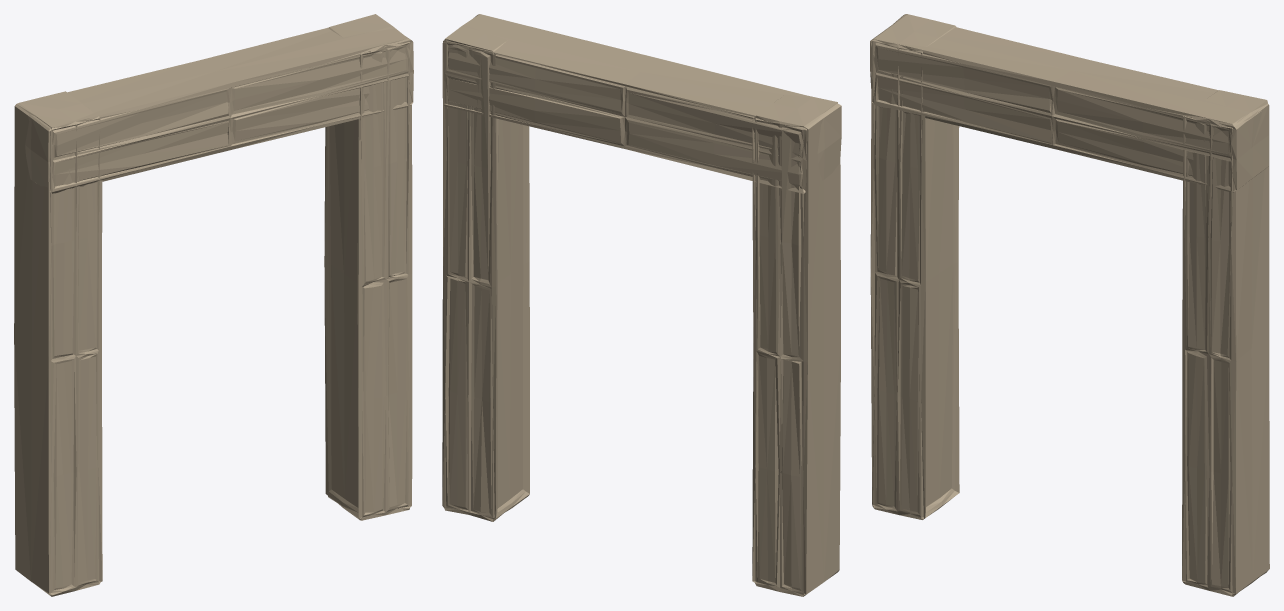
Rendered from SM_DoorFrame.fbx.
3 renders of one model, left to right at view 1: azimuth 30°, elevation 25°; view 2: azimuth 150°, elevation 25°; view 3: azimuth 330°, elevation 25°, orthographic.
Parts seen in each view (by area): view 1: SM_DoorFrame; view 2: SM_DoorFrame; view 3: SM_DoorFrame.
Part boxes in pixels (<box>): SM_DoorFrame: <box>14,14,413,596</box>; SM_DoorFrame: <box>442,14,841,596</box>; SM_DoorFrame: <box>870,14,1269,596</box>.
Size of the model in its own units: 3.42 by 4.22 by 0.5798.
